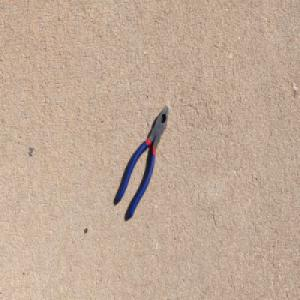Pliers: (114, 102, 170, 221)
